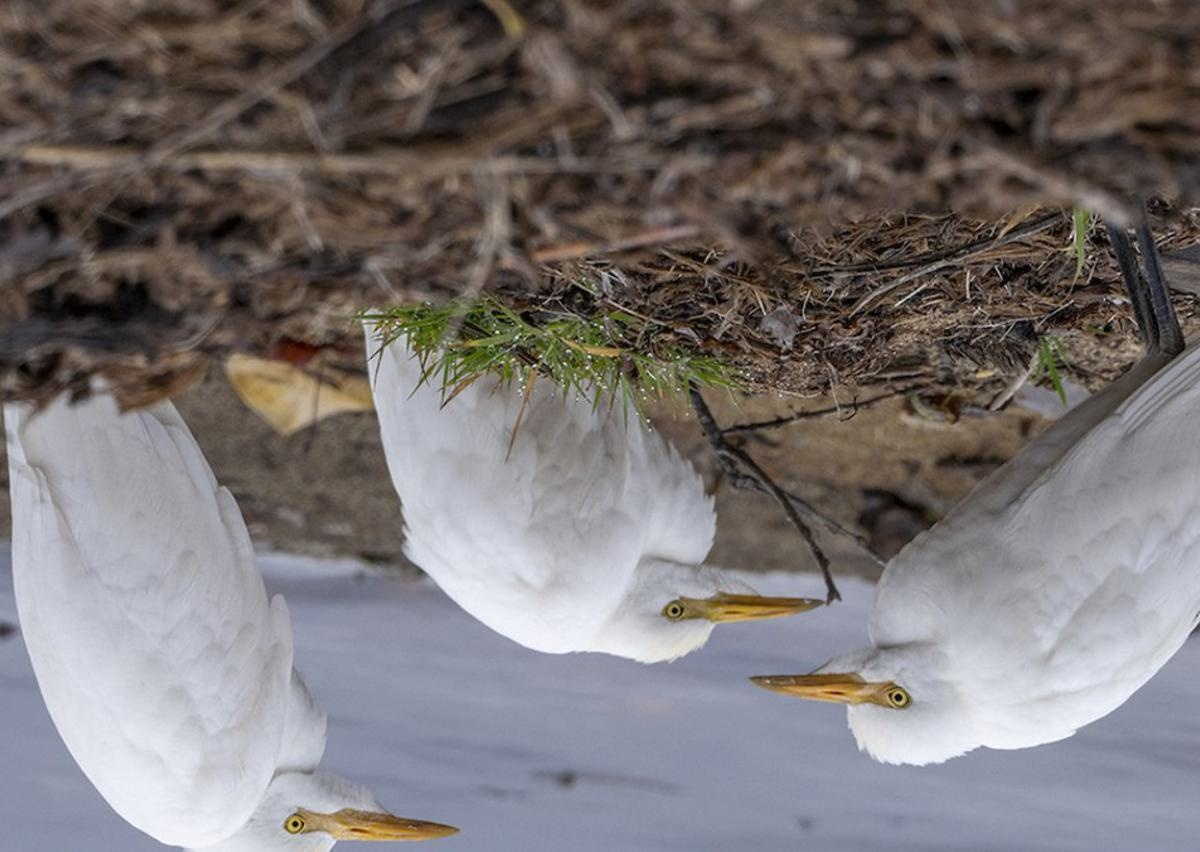egret: (1, 388, 483, 851), (761, 356, 1200, 764), (344, 316, 819, 667)
